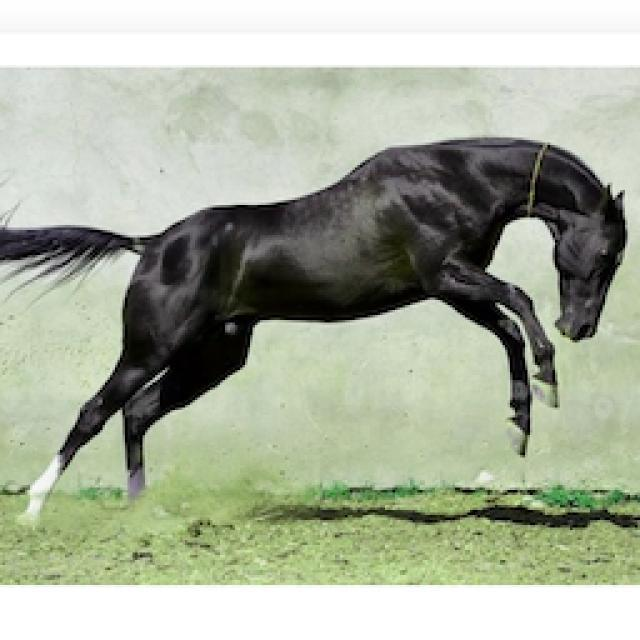Horse: (2, 125, 640, 533)
